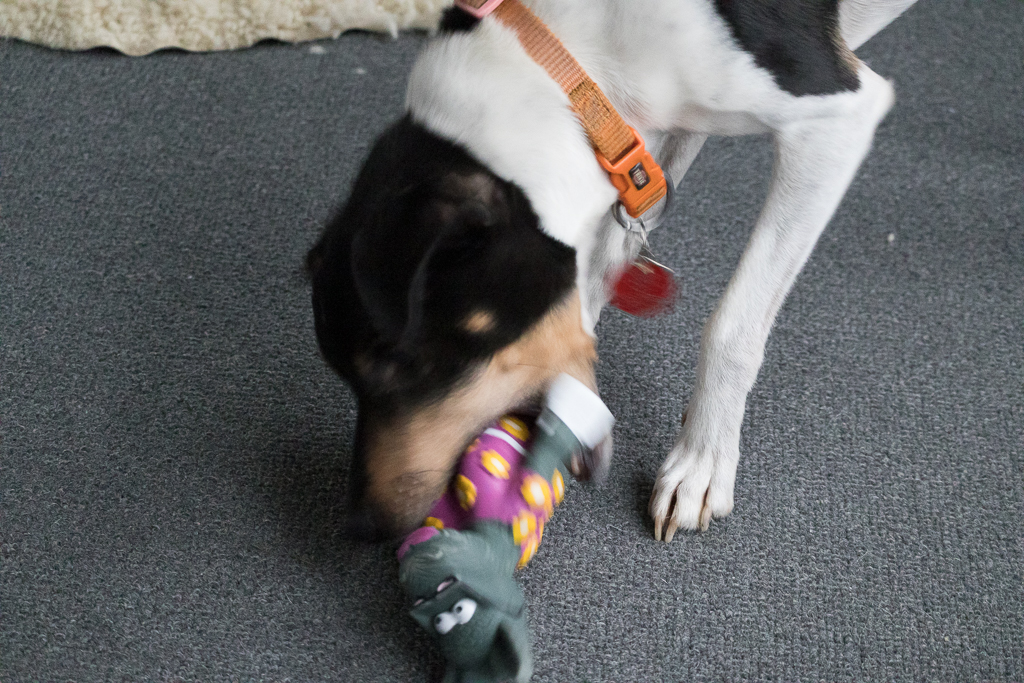Dog: (277, 0, 942, 578)
Humanoid: (376, 361, 628, 683)
